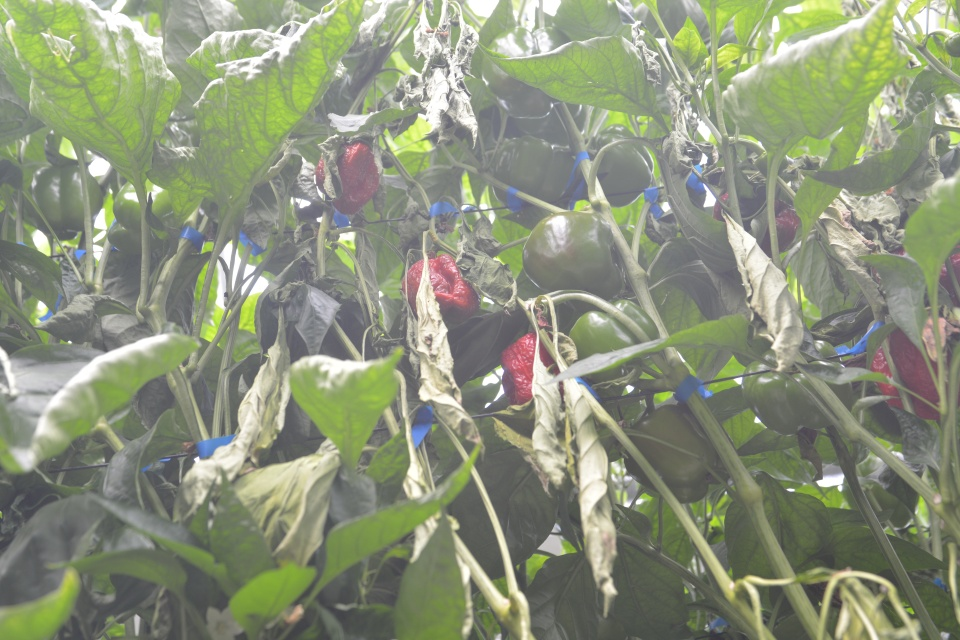fruit: (521, 208, 624, 312), (741, 345, 854, 436), (621, 403, 718, 505), (480, 24, 572, 118), (567, 299, 659, 388), (870, 325, 951, 420), (712, 182, 800, 258), (490, 133, 576, 210), (400, 252, 480, 325), (22, 163, 104, 233), (593, 122, 655, 208), (106, 175, 171, 256), (499, 330, 564, 411), (315, 141, 380, 215)
immature: (941, 30, 960, 56)
